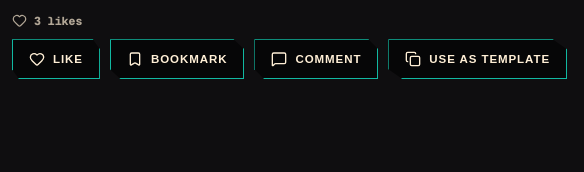
Scenario: PublicHeroActions › shows a network error as a status message
This screenshot has width=584, height=172.
Click the button with aria-label "Like Arc Light": (56, 59) [12, 39, 100, 79]
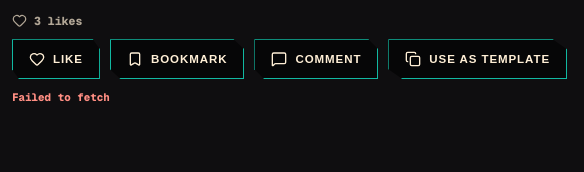
Expected: the element with test id "public-hero-like-count" reads "3 likes", [34, 13, 82, 28]
Expected: the message reads "Failed to fetch", [12, 90, 110, 104]
